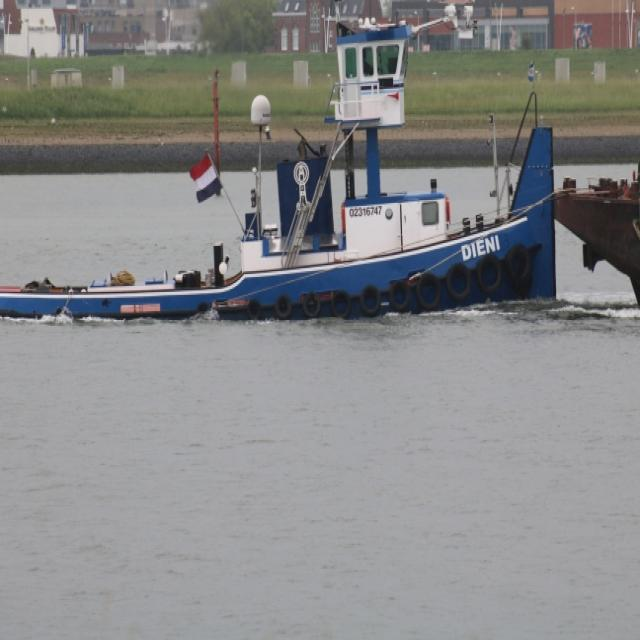tugboat: (1, 1, 565, 334)
